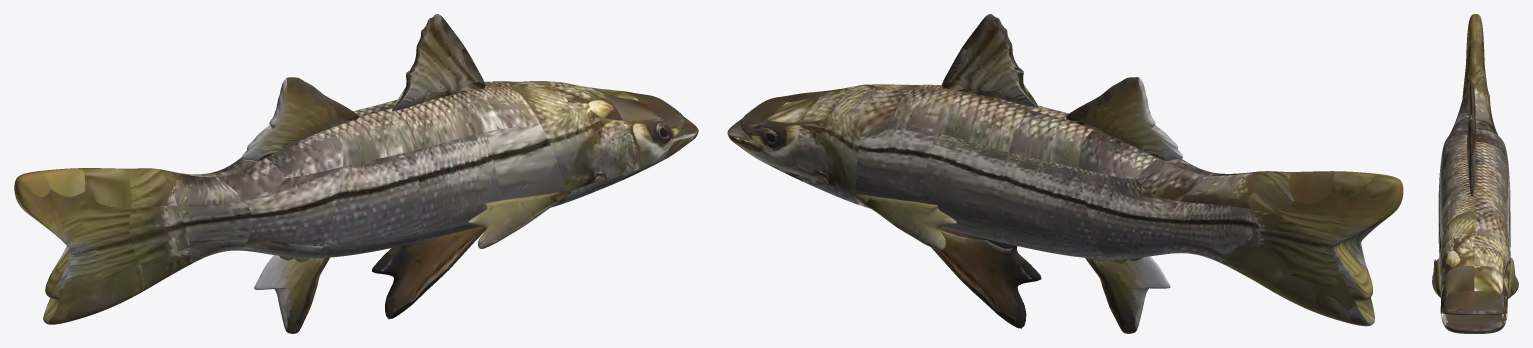
File: robaloWtexture.fbx
3 views of the same model, side by side, from view 1: azimuth 30°, elevation 25°; view 2: azimuth 150°, elevation 25°; view 3: azimuth 270°, elevation 25° (orthographic). The views are drawn at different scales.
Visible parts, largest first — view 1: Cube, Cube.001; view 2: Cube, Cube.001; view 3: Cube, Cube.001.
Boxes of the visible parts, box(x1,y1,x2,y2) form: Cube: box(14, 81, 698, 324); Cube.001: box(242, 14, 570, 333); Cube: box(727, 84, 1403, 326); Cube.001: box(854, 14, 1182, 333); Cube: box(1438, 14, 1510, 333); Cube.001: box(1432, 82, 1518, 298).
Bounding box in the file's own units: 930 × 401 × 141.
Materials: 1 (1 with a texture image).
